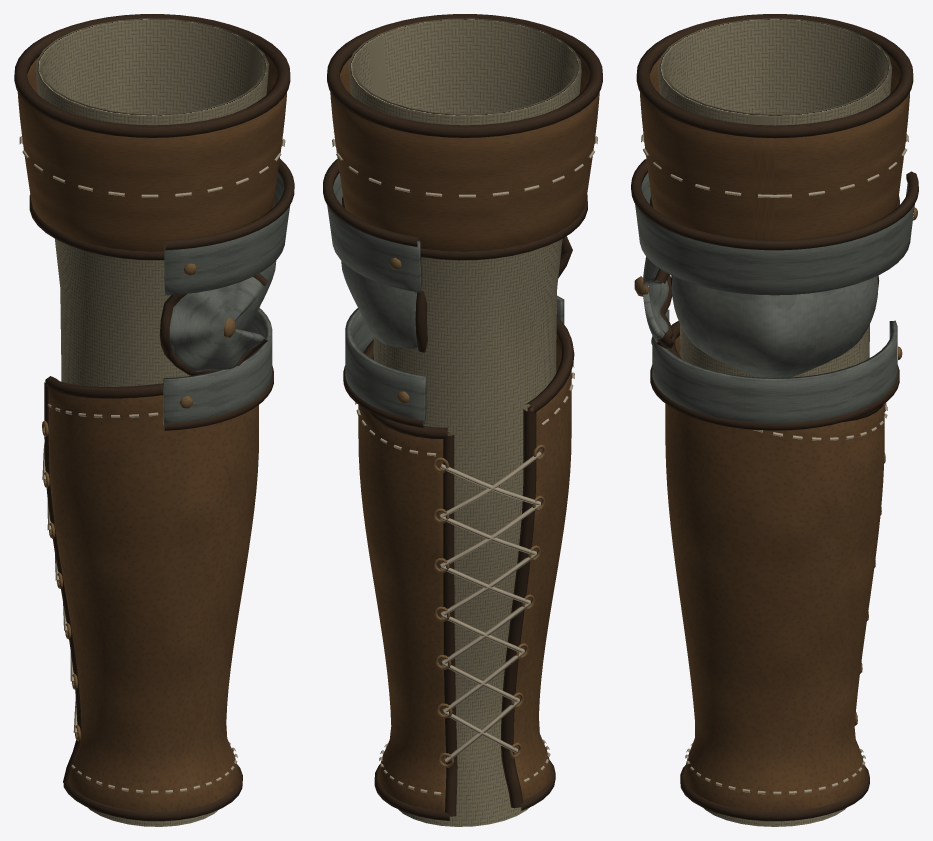
3 renders of one model, left to right at view 1: azimuth 30°, elevation 25°; view 2: azimuth 150°, elevation 25°; view 3: azimuth 270°, elevation 25°, orthographic.
Parts seen in each view (by area): view 1: tanned leather, quilted linen lining, weathered plate, oiled strap leather, waxed linen thread, aged alloy edge; view 2: tanned leather, quilted linen lining, oiled strap leather, weathered plate, waxed linen thread, aged alloy edge; view 3: tanned leather, weathered plate, quilted linen lining, oiled strap leather, waxed linen thread.
Boxes of the visible parts, x1=… form: tanned leather: x1=17, y1=57, x2=286, y2=811; quilted linen lining: x1=35, y1=18, x2=268, y2=826; weathered plate: x1=163, y1=173, x2=290, y2=426; oiled strap leather: x1=14, y1=14, x2=294, y2=821; waxed linen thread: x1=19, y1=132, x2=285, y2=793; aged alloy edge: x1=42, y1=263, x2=235, y2=741; tanned leather: x1=330, y1=57, x2=599, y2=811; quilted linen lining: x1=348, y1=18, x2=581, y2=826; oiled strap leather: x1=323, y1=14, x2=602, y2=820; weathered plate: x1=327, y1=173, x2=564, y2=424; waxed linen thread: x1=332, y1=132, x2=597, y2=795; aged alloy edge: x1=389, y1=257, x2=545, y2=767; tanned leather: x1=640, y1=58, x2=909, y2=811; weathered plate: x1=635, y1=173, x2=914, y2=423; quilted linen lining: x1=658, y1=18, x2=892, y2=826; oiled strap leather: x1=631, y1=14, x2=918, y2=821; waxed linen thread: x1=641, y1=134, x2=908, y2=794.
Bounding box in the file's own units: 0.1479 × 0.4258 × 0.1521.
6 materials, 6 textured.
